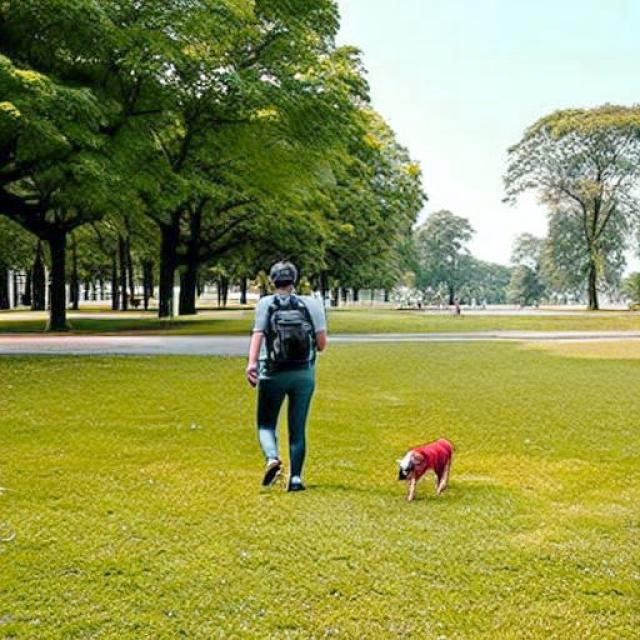Unleashed_Dog: (256, 385, 454, 503)
